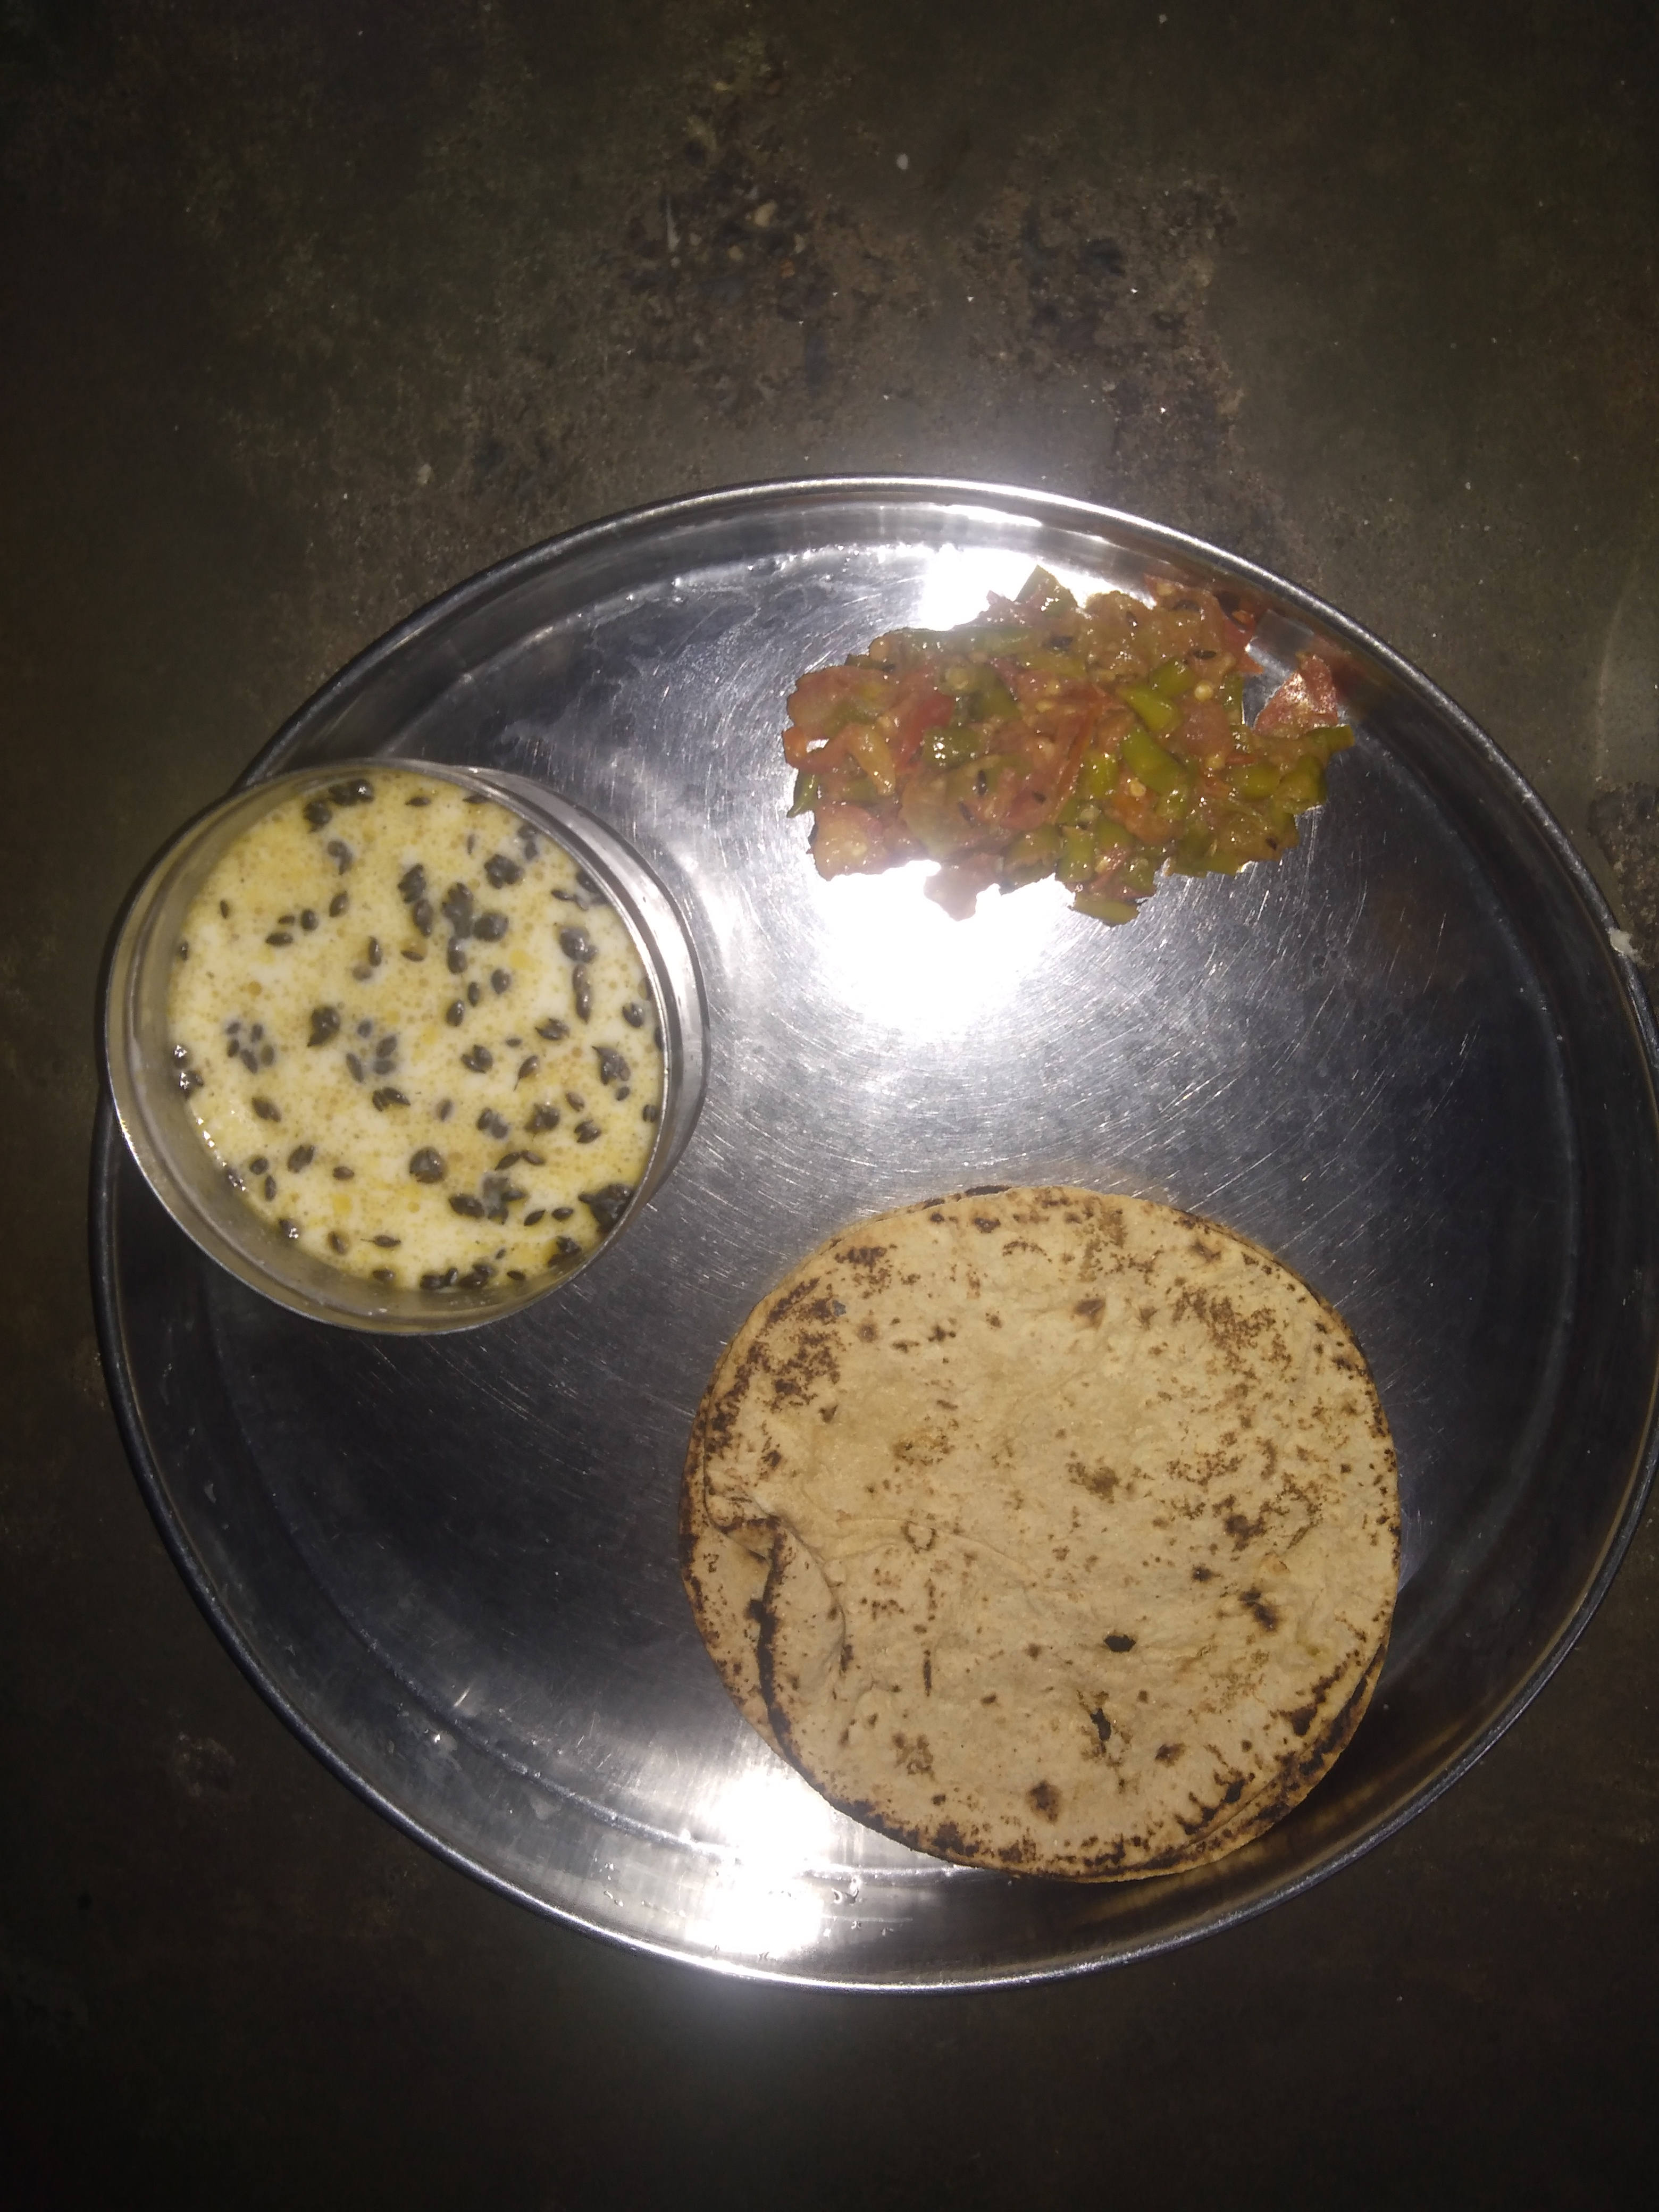food: (92, 547, 1418, 1899)
